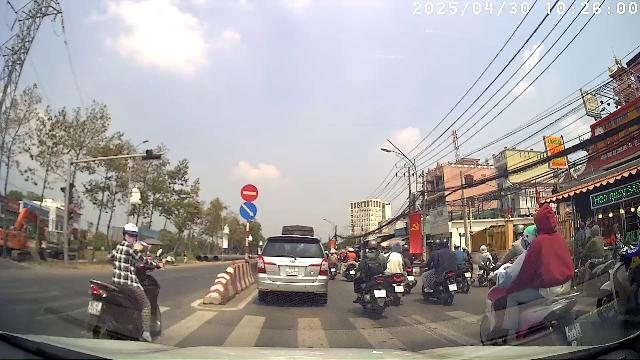102-cam-di-nguoc-chieu: (241, 184, 259, 201)
302a-huong-phai-di-vong-chuong-ngai-vat-1: (240, 202, 257, 219)
